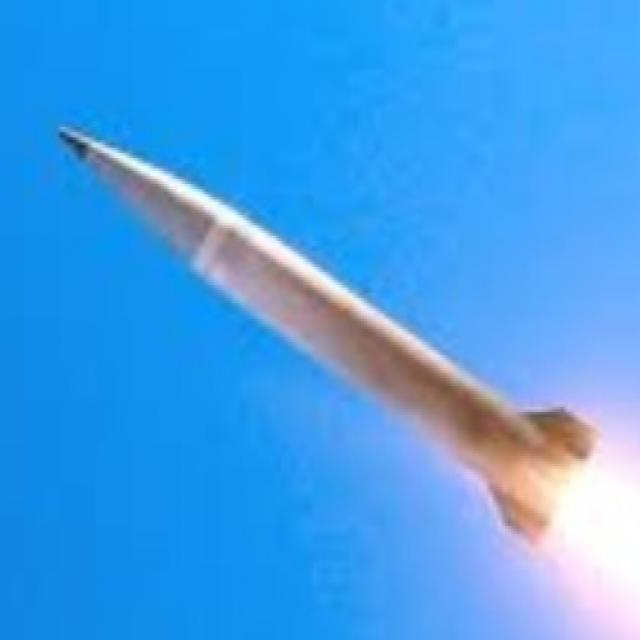missile: (60, 120, 609, 559)
